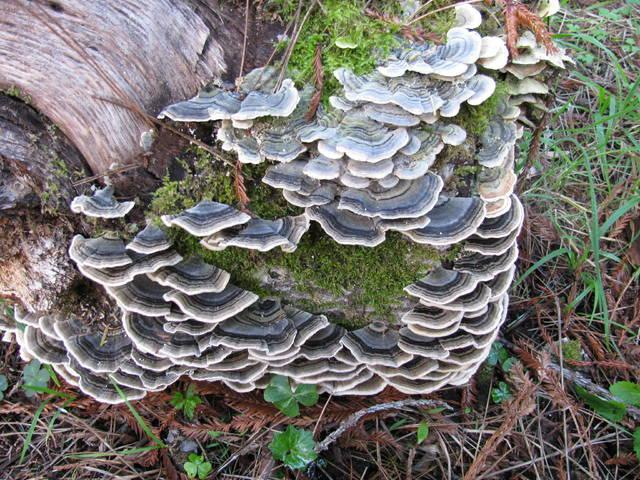Non-edible Mushroom: (1, 2, 542, 405)
